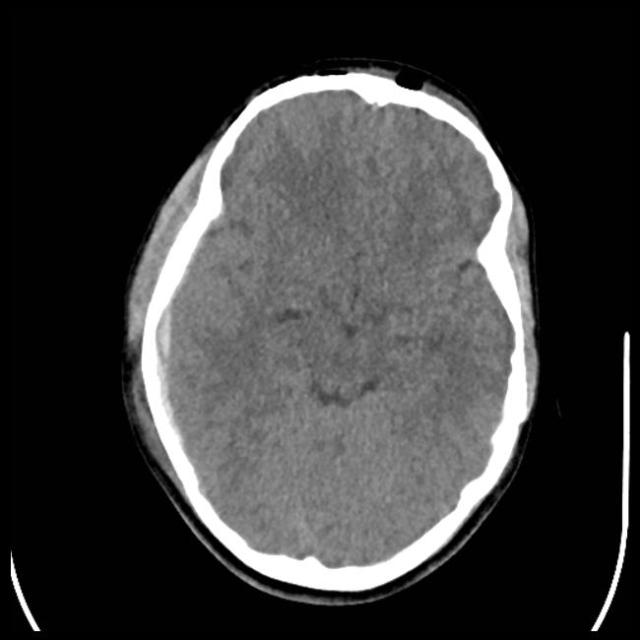lesion: (123, 63, 543, 597)
